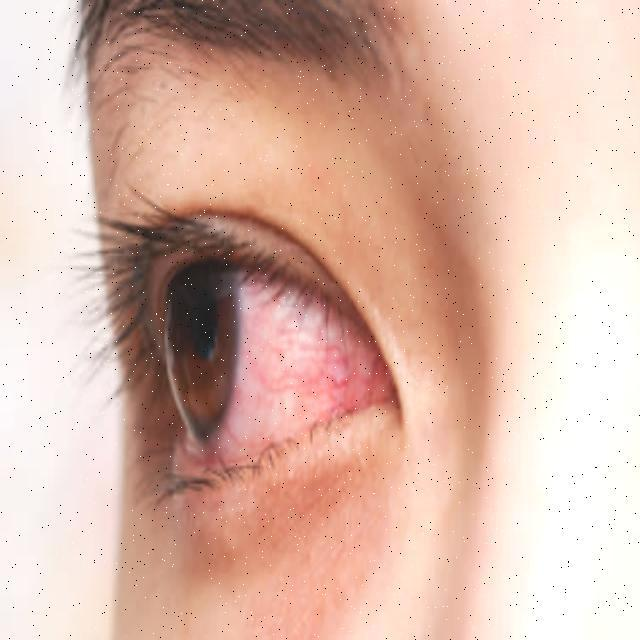Conjunctivitis: (226, 266, 388, 450)
